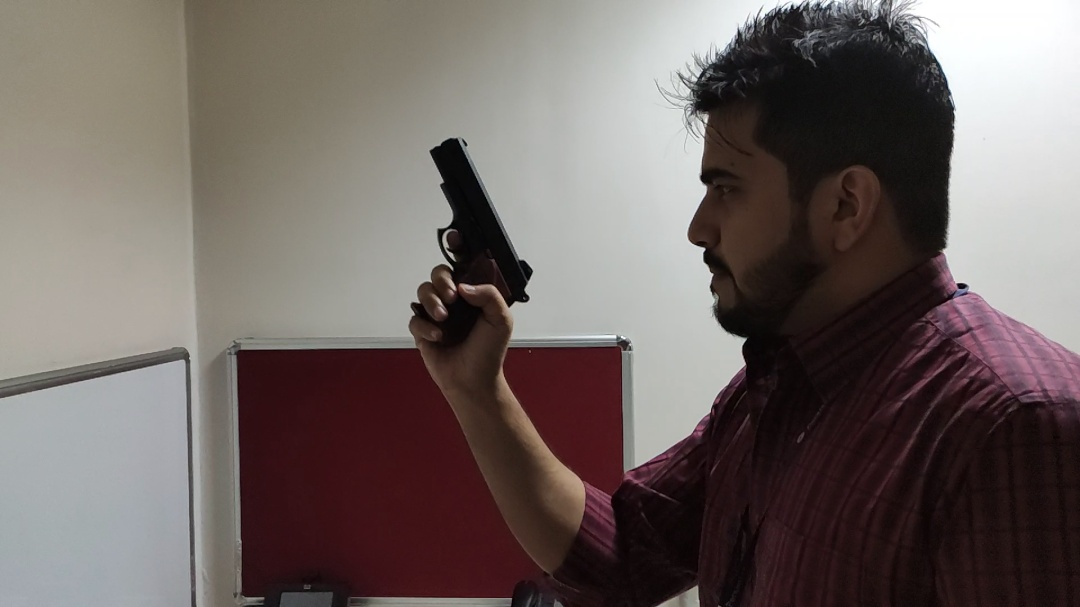gun: (408, 136, 533, 349)
